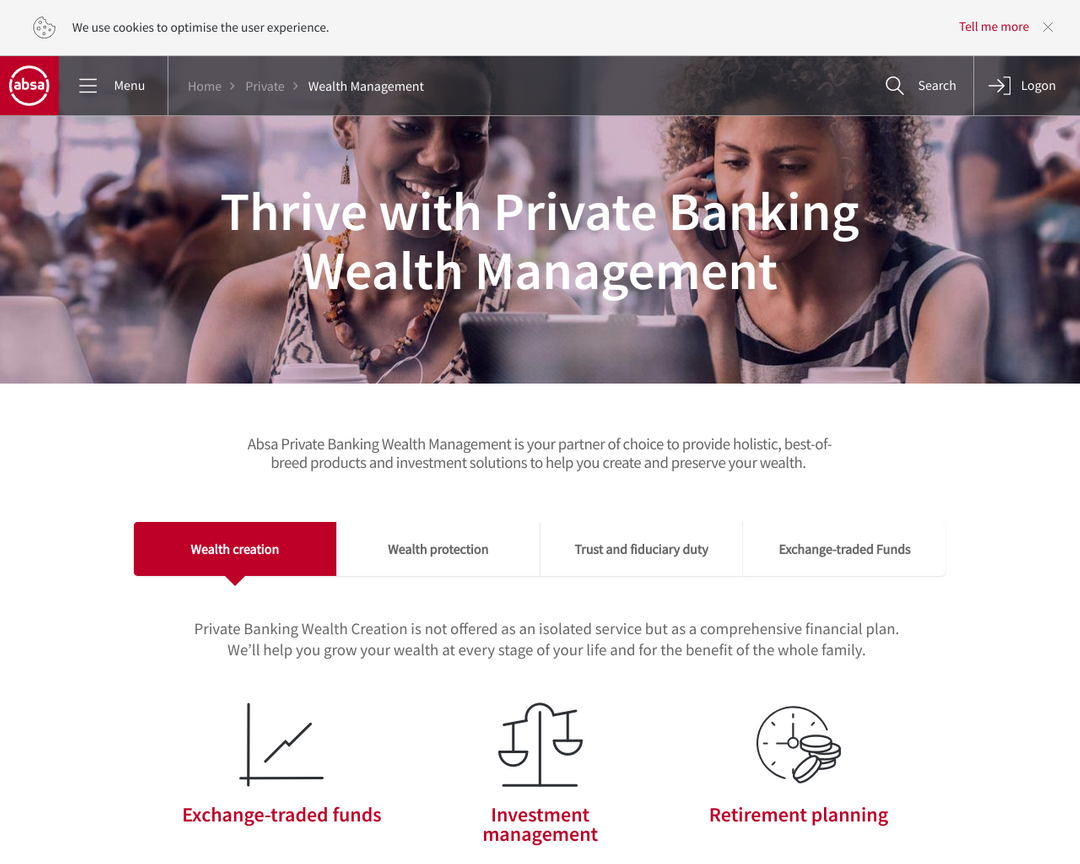ABSA: (6, 65, 54, 109)
